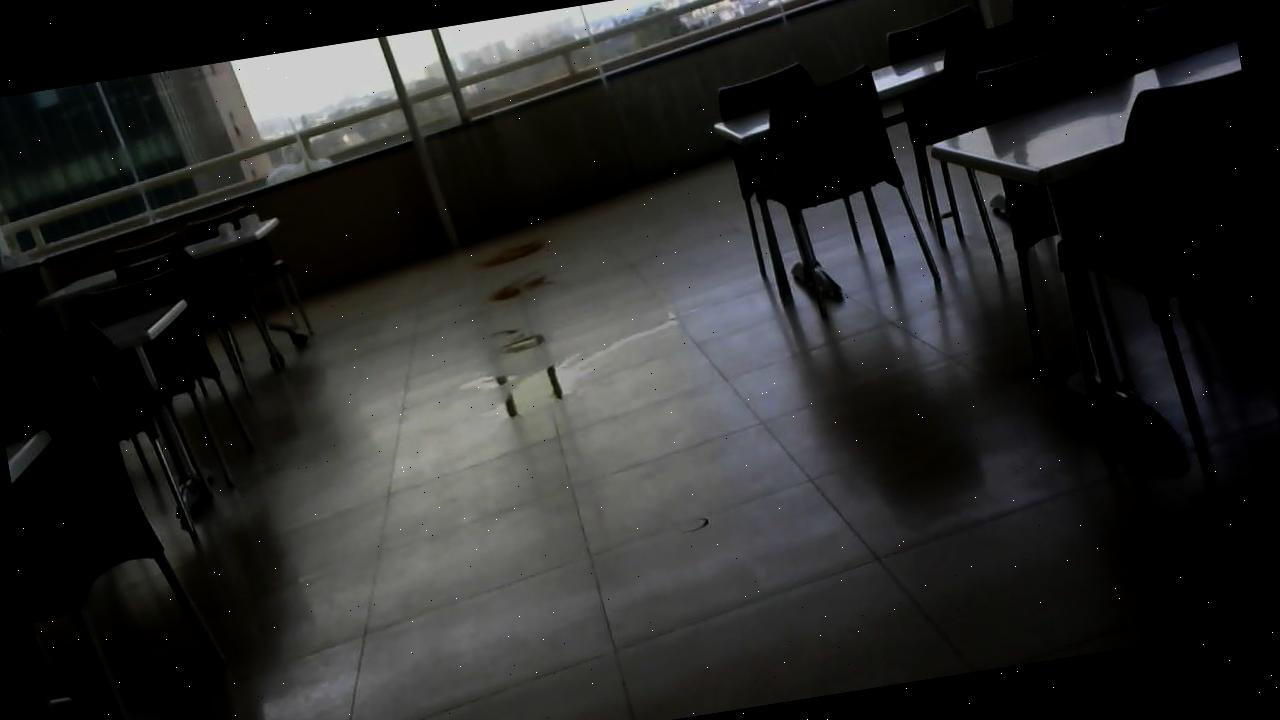dirty_floor: (440, 304, 701, 433), (468, 230, 556, 272), (481, 268, 562, 308)
